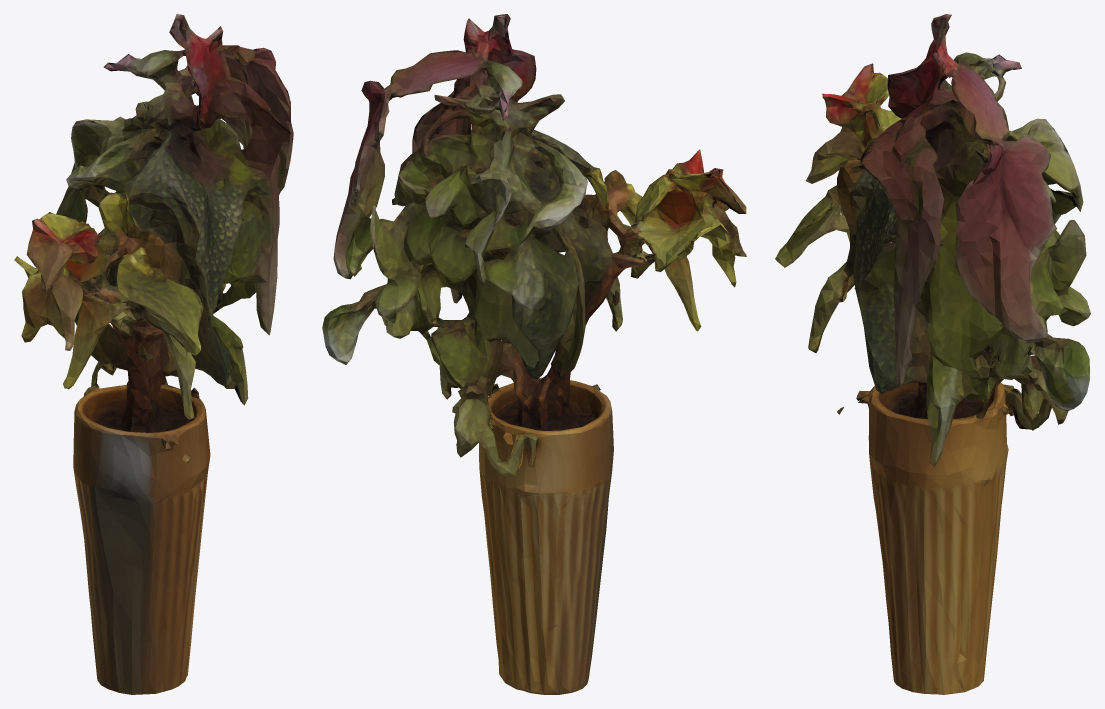
3 renders of one model, left to right at view 1: azimuth 30°, elevation 25°; view 2: azimuth 150°, elevation 25°; view 3: azimuth 270°, elevation 25°, orthographic. The views are drawn at different scales.
Visible parts, largest first — view 1: world; view 2: world; view 3: world.
Part boxes in pixels (x1=…): world: x1=14, y1=14, x2=293, y2=694; world: x1=322, y1=14, x2=746, y2=694; world: x1=775, y1=14, x2=1090, y2=694.
Bounding box in the file's own units: 0.5185 × 0.9946 × 0.4159.
Materials: 1 (1 with a texture image).
